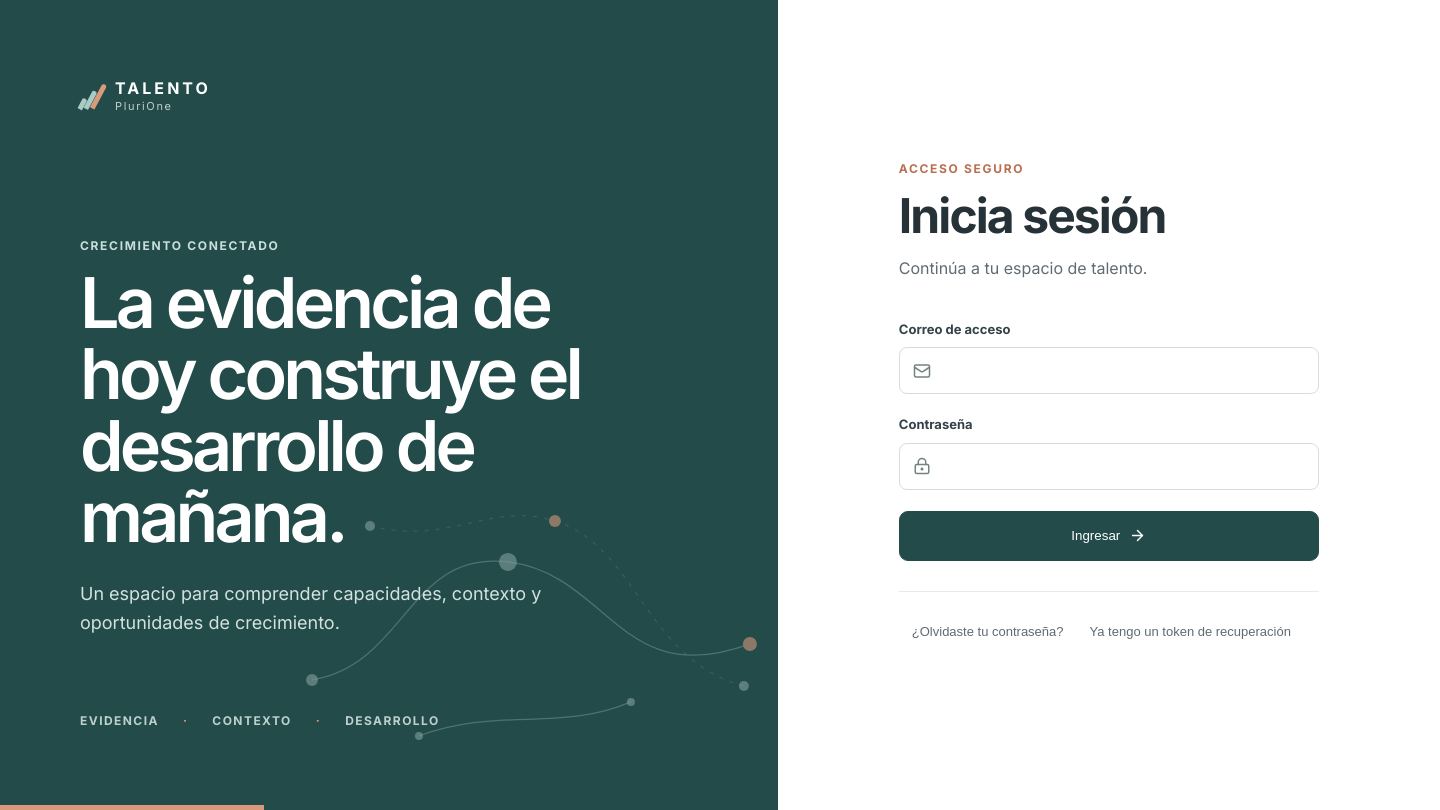
Test case: App — shell público de recuperación (H1) › el login abre directamente el restablecimiento para quien ya tiene token
This screenshot has width=1440, height=810.
What coordinates should you click on to do the following:
click the button "Ya tengo un token de recuperación"
I would click on:
 (1190, 632)
Its box is [1076,614,1304,650].
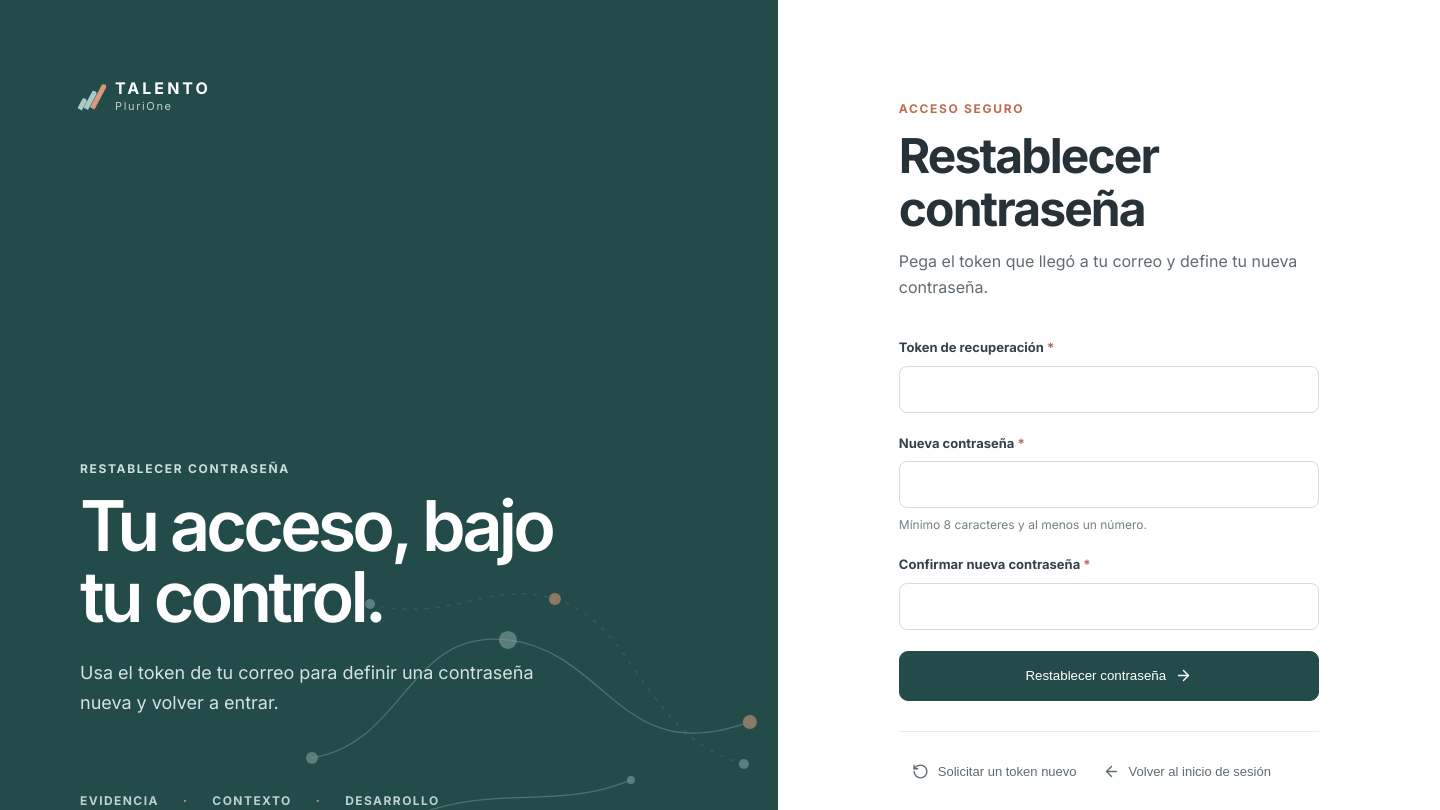
Now the heading "Restablecer contraseña" is shown, box [899,126,1158,238]
Now the field labelled "Token de recuperación" is shown, box [899,366,1319,413]
